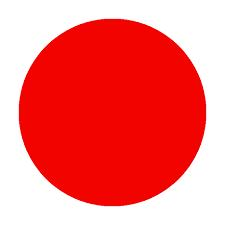red_circle: (20, 19, 206, 208)
